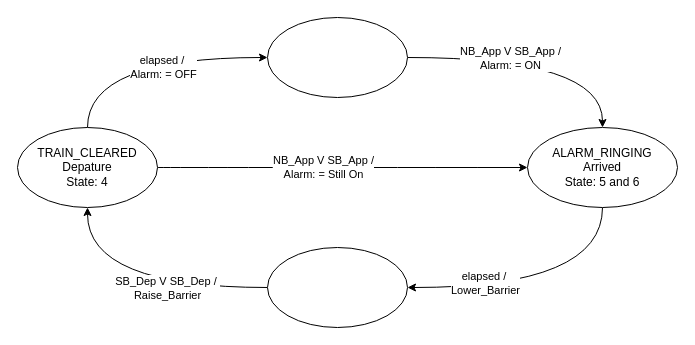
The diagram is 695 pixels wide and 345 high, and some of its shapes have lost their labels. Each missing label, with the box of its shape:
BARRIER_LOWERED State: 13 and 14: (266, 246, 408, 328)
IDLE State: 0: (266, 16, 408, 98)
